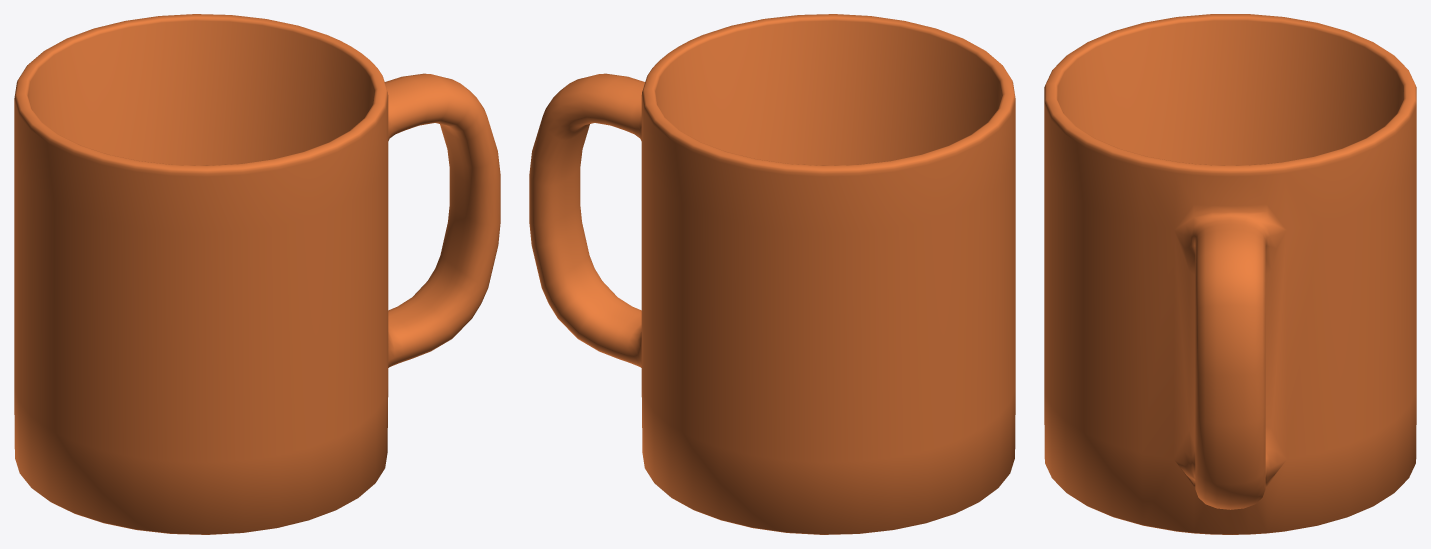
Rendered from cup_lp.fbx.
3 renders of one model, left to right at view 1: azimuth 30°, elevation 25°; view 2: azimuth 150°, elevation 25°; view 3: azimuth 270°, elevation 25°, orthographic.
Parts seen in each view (by area): view 1: cup_lp; view 2: cup_lp; view 3: cup_lp.
Boxes of the visible parts, x1,y1,x2,y2 form: cup_lp: [14, 14, 500, 534]; cup_lp: [529, 14, 1015, 534]; cup_lp: [1044, 14, 1416, 534].
Bounding box in the file's own units: 12.95 × 10 × 9.23.
